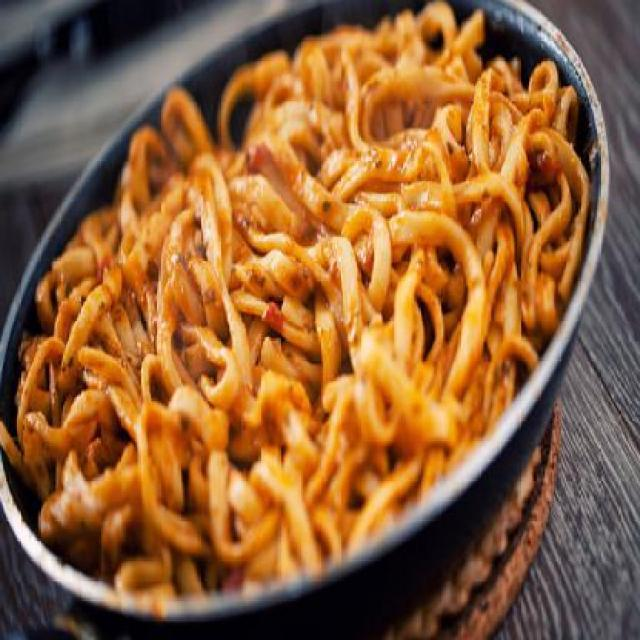Pasta al ragu: (16, 66, 598, 520)
